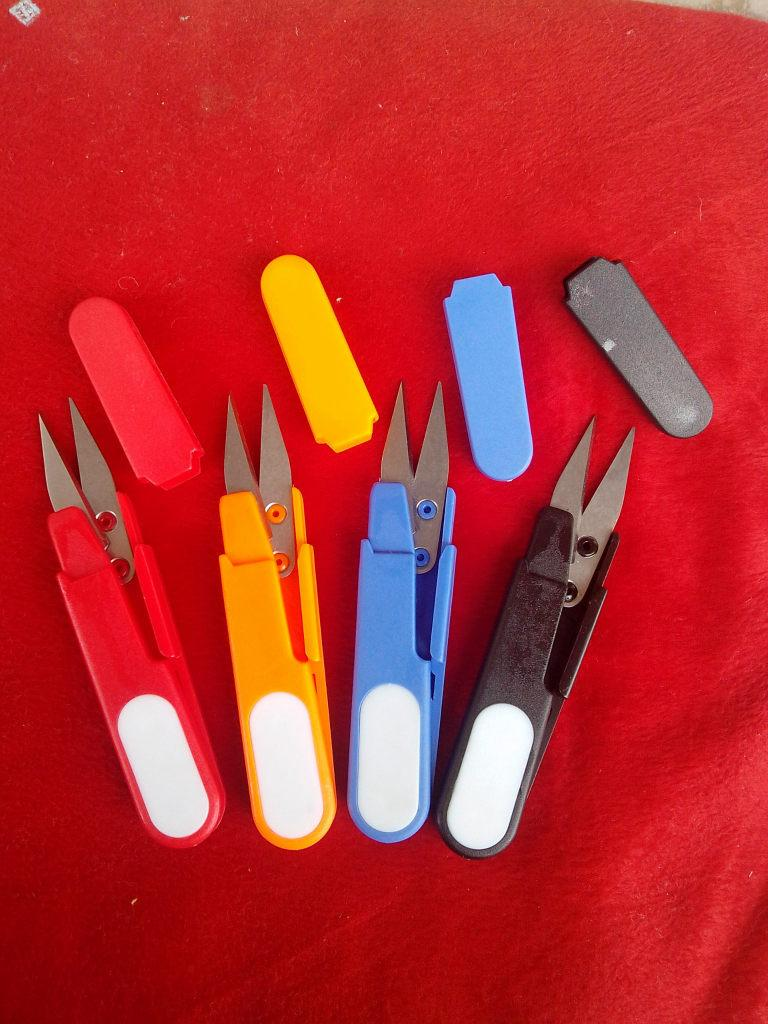scissor: (12, 280, 721, 854)
